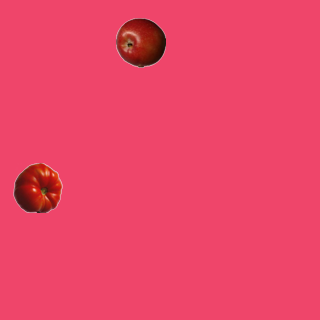Apple Braeburn: (115, 17, 165, 67)
Tomato 3: (12, 162, 62, 212)
